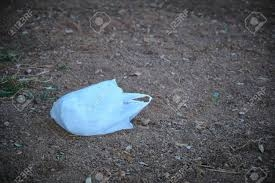plastic: (46, 73, 153, 140)
